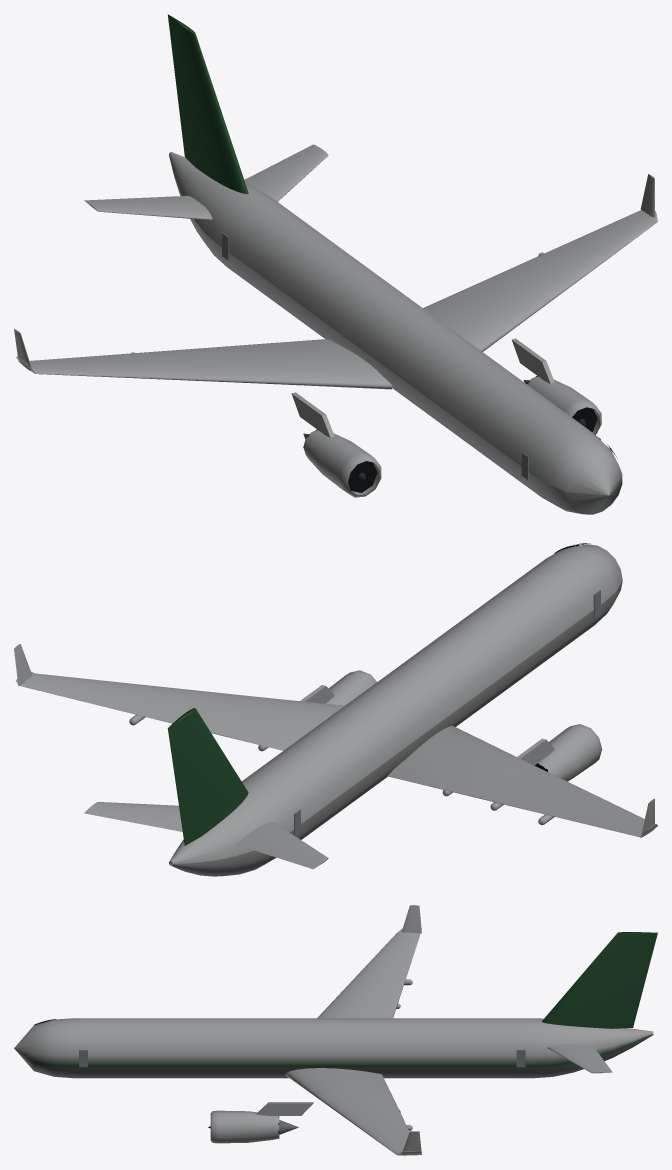
Rendered from regional.glb.
The picture shows the model from 3 angles, top to bottom: view 1: azimuth 30°, elevation 25°; view 2: azimuth 150°, elevation 25°; view 3: azimuth 270°, elevation 25°; orthographic projection. The views are drawn at different scales.
Size of the model in its own units: 26.56 by 9.32 by 31.94.
